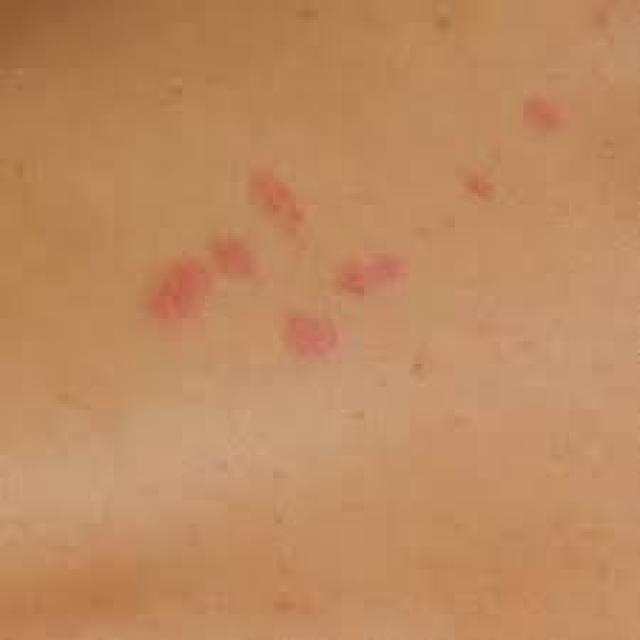kan emici bocekler: (323, 250, 434, 315), (249, 159, 311, 262), (145, 246, 214, 329), (280, 305, 340, 374), (516, 81, 577, 147), (215, 229, 261, 296), (458, 162, 501, 221)
